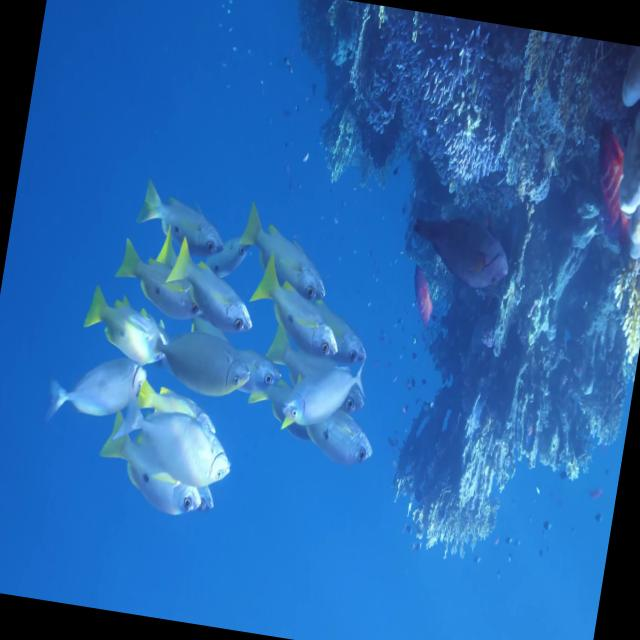fish: (107, 385, 240, 493), (96, 419, 212, 522), (244, 253, 351, 362), (228, 208, 341, 304), (142, 310, 258, 399), (166, 235, 264, 332), (134, 171, 234, 259), (114, 244, 218, 328), (45, 348, 148, 428), (78, 290, 176, 373), (279, 350, 370, 439), (296, 392, 380, 473)
